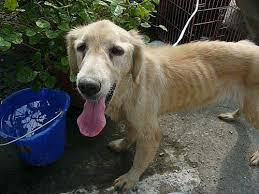dog: (71, 40, 130, 105)
